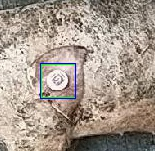text: (41, 64, 75, 97)
